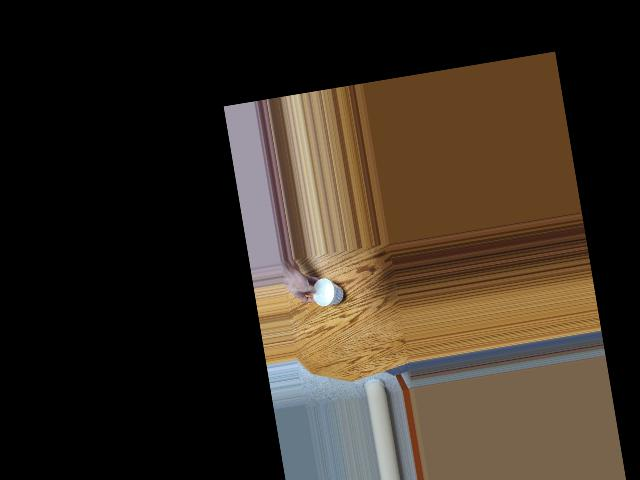cotage: (308, 277, 343, 306)
